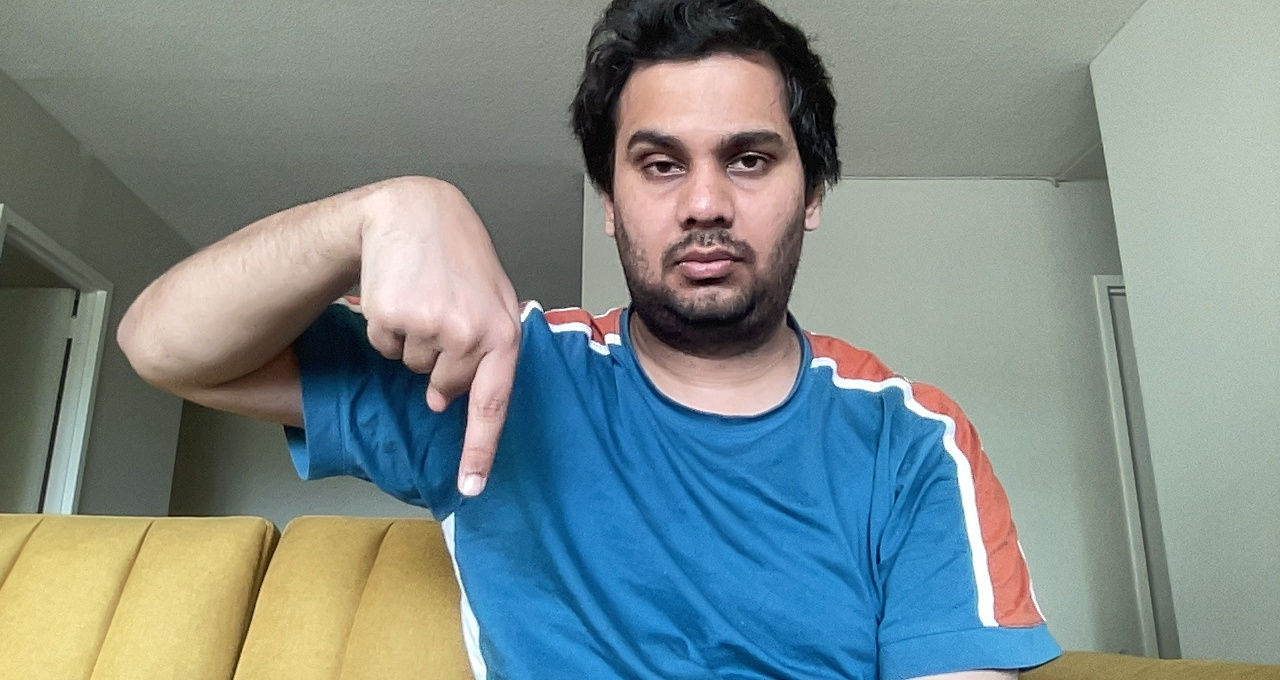fingerdown: (345, 171, 535, 506)
